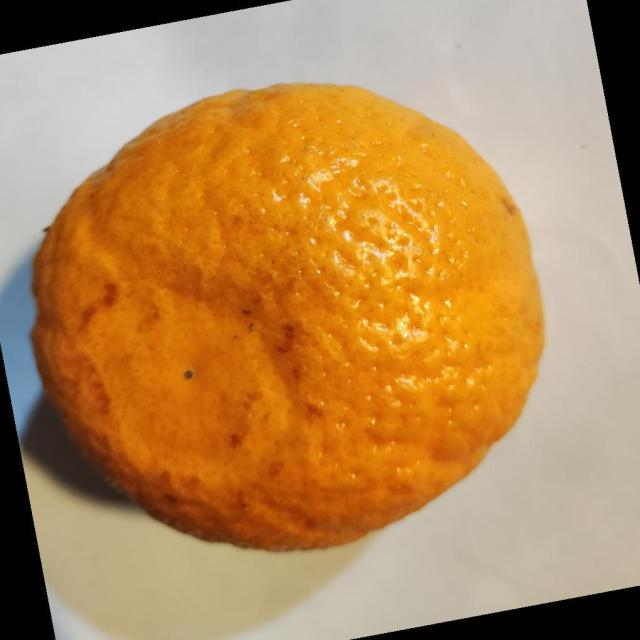fresh orange: (29, 80, 546, 552)
